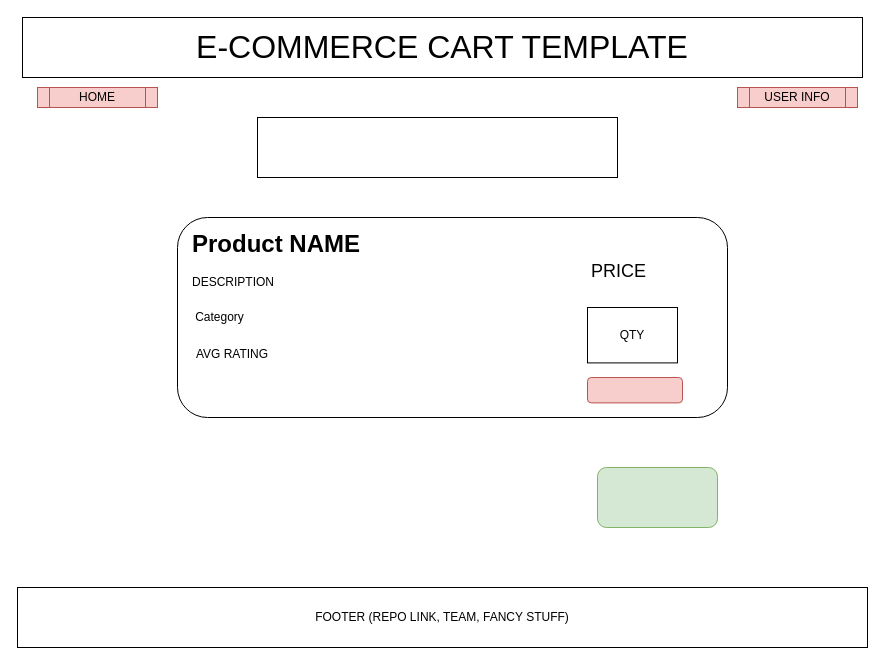
Some shapes in this 885 by 665 pixel diagram are drawn without their labels. Here are the shapes that lost their labels. From the top down, the centre of each, then its label:
At (437,147): "YOUR CART".
At (634,389): "REMOVE ITEM".
At (657,497): "CHECKOUT".
